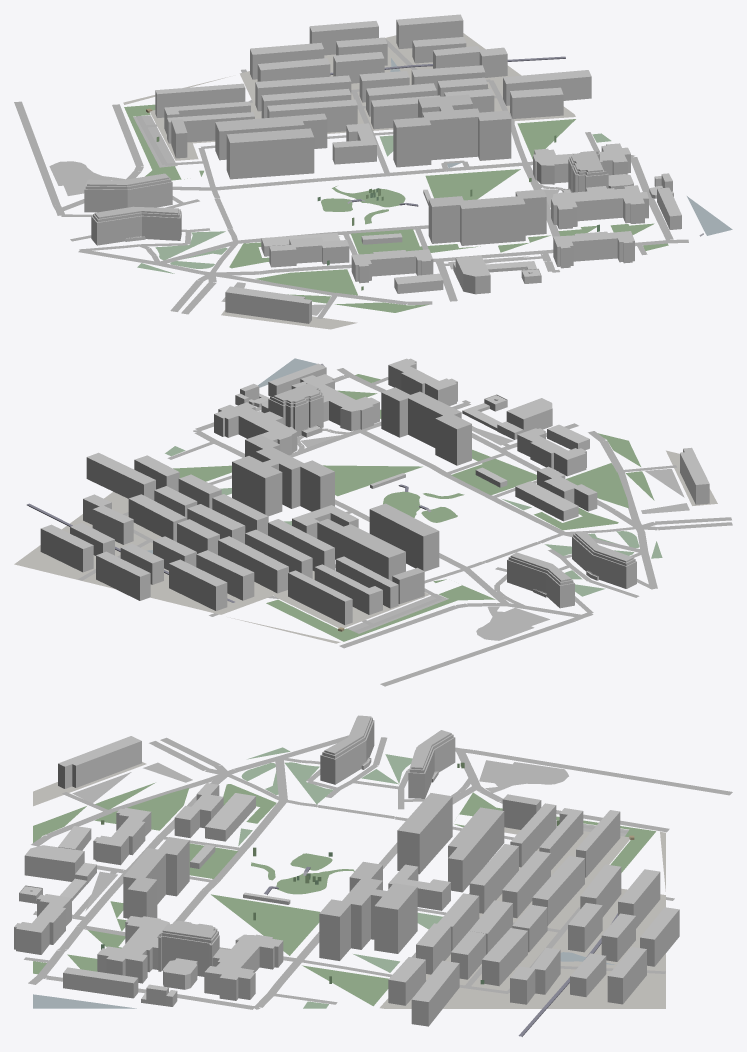
The picture shows the model from 3 angles, top to bottom: view 1: azimuth 30°, elevation 25°; view 2: azimuth 150°, elevation 25°; view 3: azimuth 270°, elevation 25°; orthographic projection. The views are drawn at different scales.
Size of the model in its own units: 572 by 41.91 by 568.
